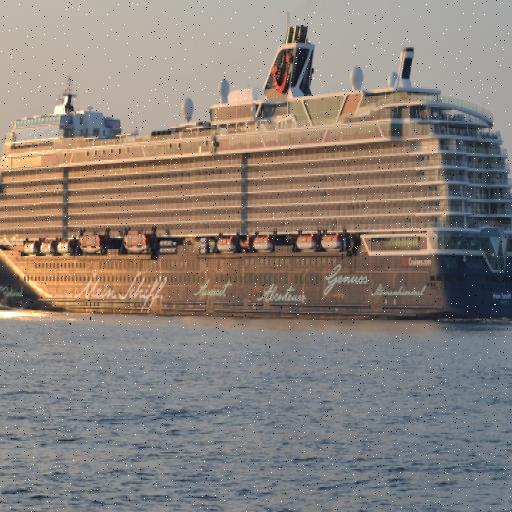cruises: (1, 26, 512, 331)
